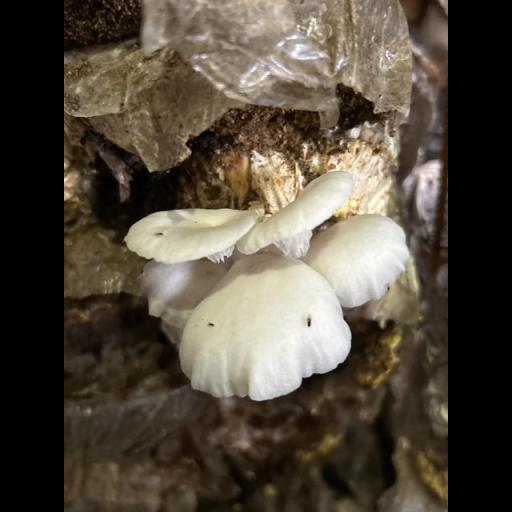White Oyster Mushroom: (132, 171, 408, 397)
